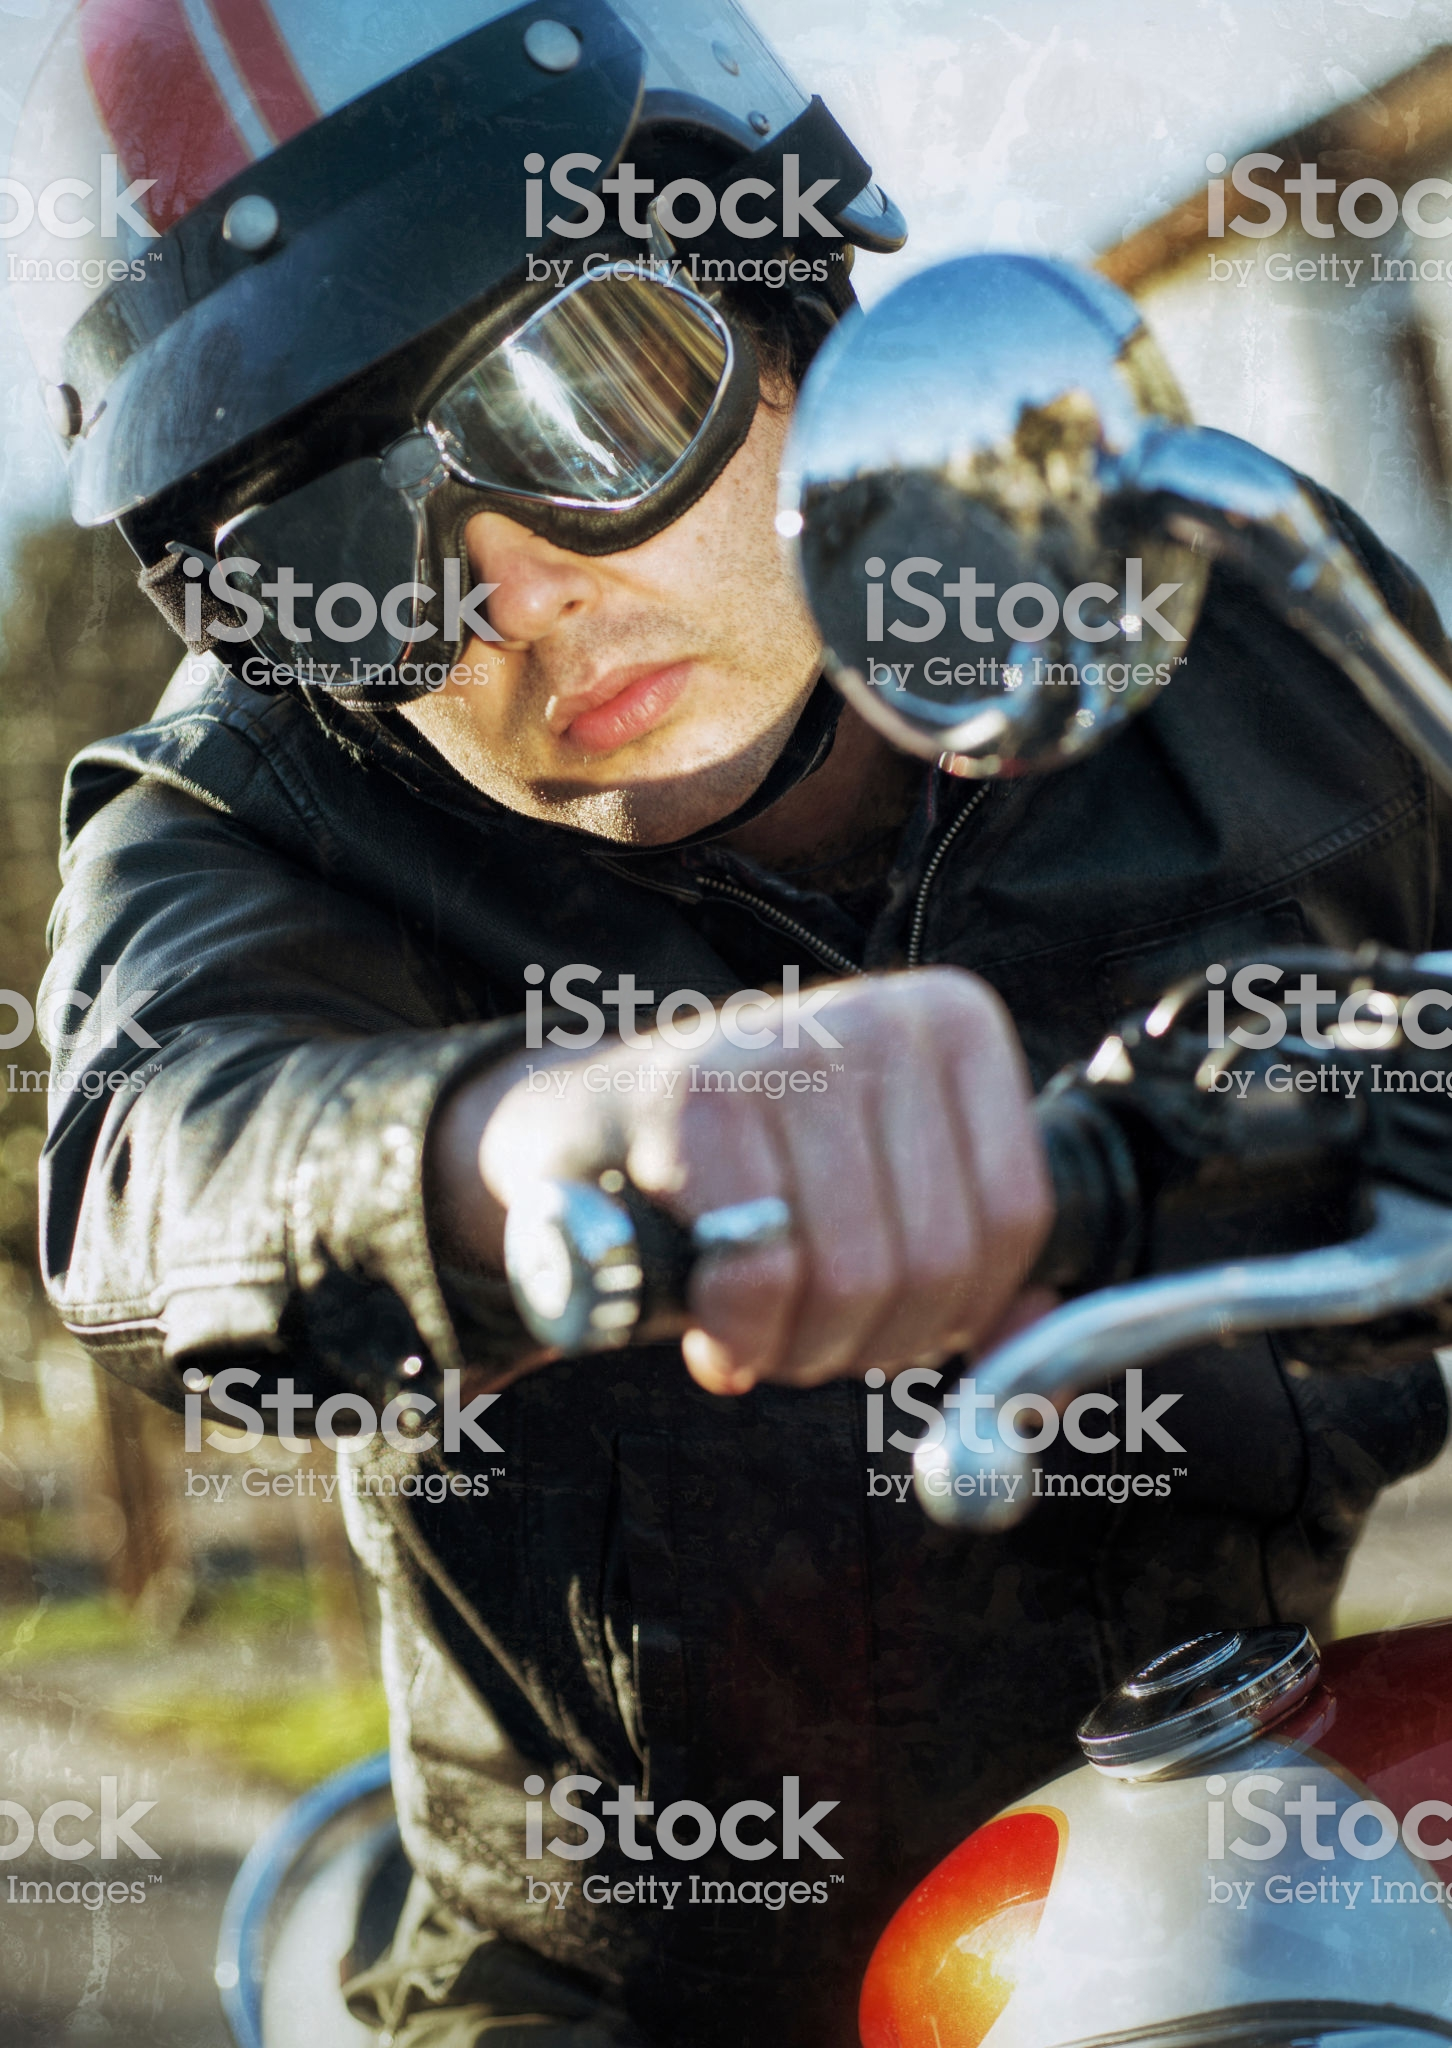helmet: (25, 35, 913, 761)
